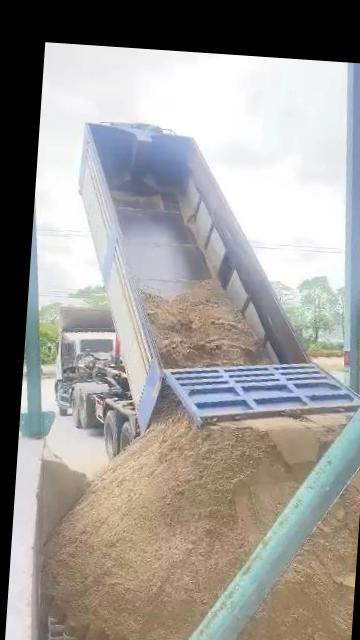sand: (40, 393, 345, 640), (220, 469, 360, 640), (145, 282, 269, 368)
